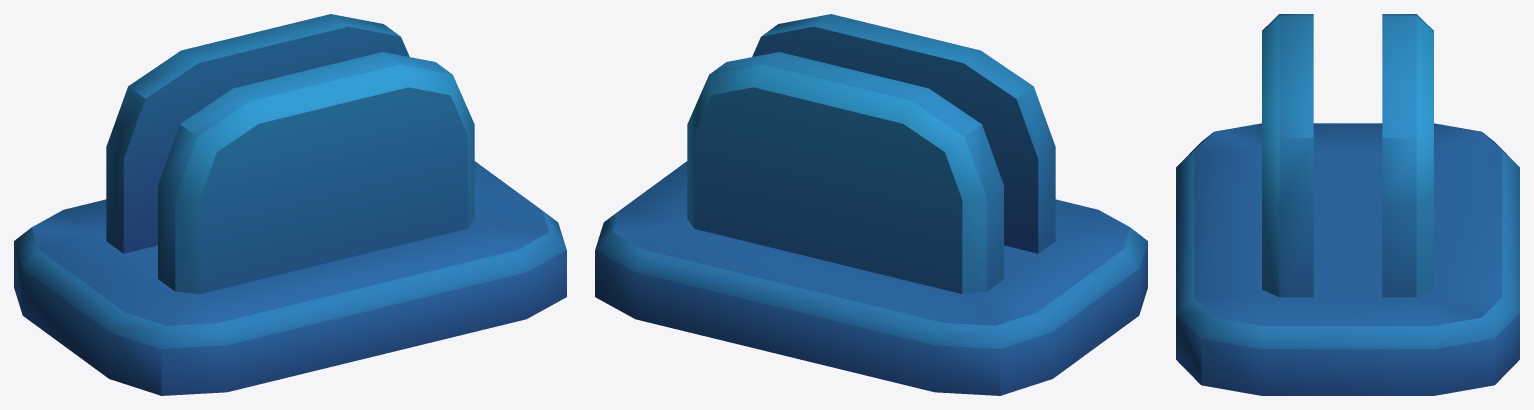
The model's file is playerstand_blue.obj.
3 renders of one model, left to right at view 1: azimuth 30°, elevation 25°; view 2: azimuth 150°, elevation 25°; view 3: azimuth 270°, elevation 25°, orthographic.
Visible parts, largest first — view 1: playerstand_blue; view 2: playerstand_blue; view 3: playerstand_blue.
Boxes of the visible parts, x1,y1,x2,y2 form: playerstand_blue: (14, 14, 566, 395); playerstand_blue: (595, 14, 1147, 395); playerstand_blue: (1176, 14, 1519, 395).
Size of the model in its own units: 0.75 by 0.375 by 0.5.
1 material, 1 textured.
